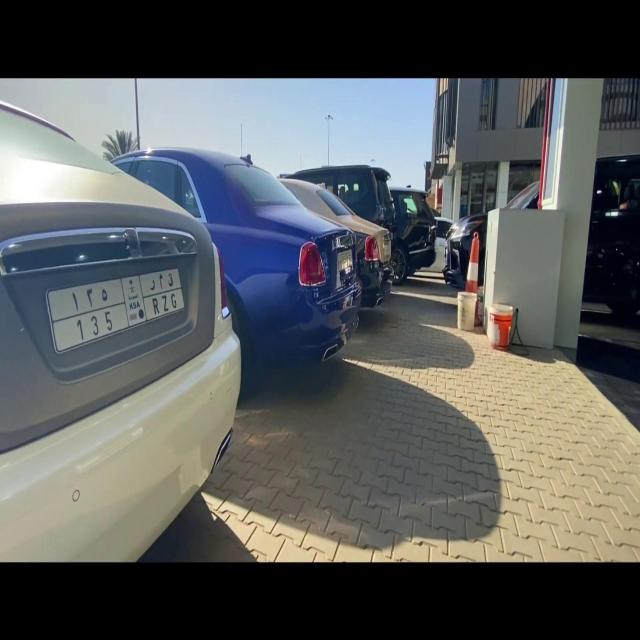license_plate: (38, 245, 194, 372), (335, 242, 356, 280)
